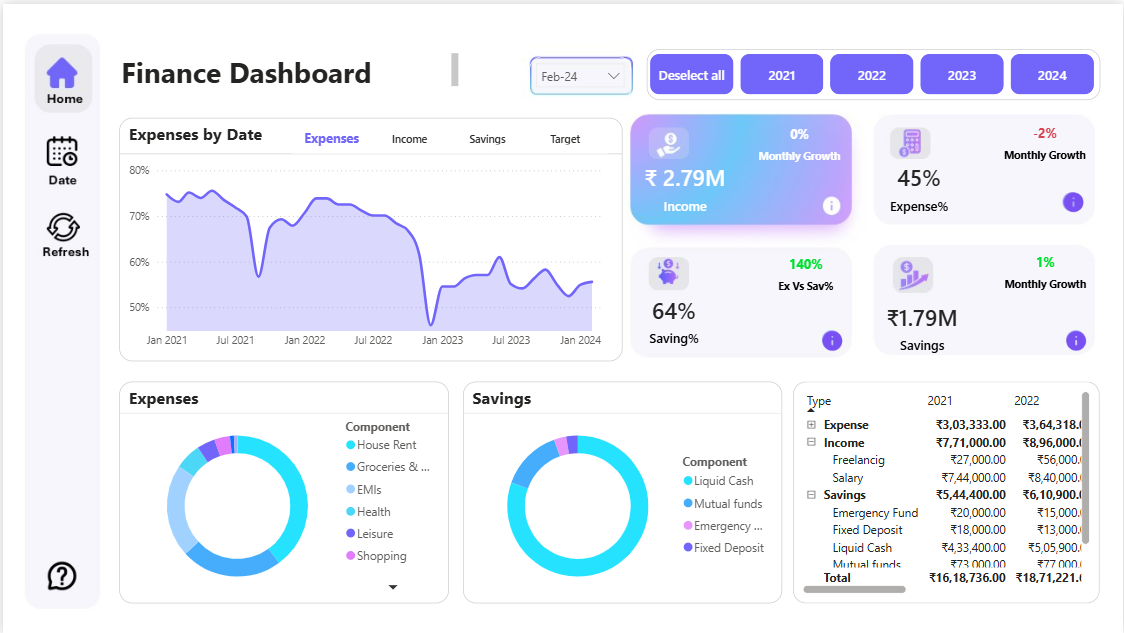

Layout of this report page (visuals, bound fields, positions):
{"tool":"powerbi","page":{"name":"Finance Dashboard","canvas":[1280,720],"ordinal":0},"visuals":[{"type":"card","fields":{"Values":["Dataset.Savings"]},"box":[1016.7,481.7,160,81.7],"z":0},{"type":"card","fields":{"Values":["Dataset.Saving%"]},"box":[713.3,318.3,108.3,85],"z":1000},{"type":"card","fields":{"Values":["Dataset.Expense%"]},"box":[996.7,170,100,80],"z":2000},{"type":"card","fields":{"Values":["Dataset.Income"]},"box":[716.7,170,125,80],"z":3000},{"type":"advancedSlicerVisual","fields":{"Values":["Dataset.Year"]},"box":[735,51.7,518.3,58.3],"z":4000},{"type":"donutChart","title":"Savings","fields":{"Category":["Dataset.Component"],"Y":["Dataset.Savings"]},"box":[525,431.7,365,253.3],"z":5000},{"type":"donutChart","title":"Expenses","fields":{"Category":["Dataset.Component"],"Y":["Dataset.Expense"]},"box":[133.3,431.7,376.7,253.3],"z":6000},{"type":"pivotTable","fields":{"Rows":["Dataset.Type","Dataset.Component"],"Columns":["Dataset.Year"],"Values":["Sum(Dataset.Value)"]},"box":[903.3,431.7,350,253.3],"z":7000},{"type":"lineChart","fields":{"Category":["Dataset.Date"],"Y":["Dataset.Line_Chart_Measures"]},"box":[133.3,130,575,278.3],"z":8000},{"type":"advancedSlicerVisual","fields":{"Values":["Line_Selection_Table.Type"]},"box":[330,135,361.7,35],"z":9000},{"type":"textbox","box":[130,51.7,395,50],"z":10000},{"type":"card","fields":{"Values":["Dataset.Savings_Monthly_Gr"]},"box":[1128.2,269.1,125.5,72.7],"z":11000},{"type":"slicer","fields":{"Values":["Selected_Date.Month-Yr"]},"box":[601.7,60,116.7,50],"z":12000},{"type":"card","fields":{"Values":["Dataset.Expenses_Monthly_Gr"]},"box":[1117.3,126.4,147.3,63.6],"z":13000},{"type":"card","fields":{"Values":["Dataset.Income_Monthly_Gr"]},"box":[853.3,116.7,115,83.3],"z":14000},{"type":"card","fields":{"Values":["Dataset.Ex_Vs_Sav"]},"box":[860,281.7,115,51.7],"z":15000},{"type":"card","fields":{"Values":["Dataset.Savings"]},"box":[1003.6,333.6,92.7,70],"z":16000},{"type":"actionButton","box":[44.4,146.7,45.6,65.6],"z":17000},{"type":"actionButton","box":[41.1,233.3,60,63.3],"z":19000},{"type":"image","box":[930.2,366.8,36,36],"z":20000},{"type":"image","box":[1208.9,366.8,36.2,36.2],"z":21000},{"type":"image","box":[1205.2,208.7,36.2,36.2],"z":22000},{"type":"card","fields":{"Values":["Min(Dataset.Info Icon)"]},"box":[1204.7,209.2,36.1,36.1],"z":23000},{"type":"card","fields":{"Values":["Min(Dataset.Info Icon)"]},"box":[1209,366.5,36.1,36.1],"z":24000},{"type":"card","fields":{"Values":["Min(Dataset.Info Icon)"]},"box":[929.1,365,36.1,36.1],"z":25000},{"type":"card","fields":{"Values":["Min(Dataset.Info Icon)"]},"box":[927.7,212.1,36.1,36.1],"z":26000}]}

Visuals, with their boxes on the page's 1280x720 design canvas (x1, y1, x2, y2). These are canvas units, not pixel positions in the 1124x633 screenshot, which may show the page scaled, cropped or inside an application window:
card - Dataset.Savings: <box>1017,482,1177,563</box>
card - Dataset.Saving%: <box>713,318,822,403</box>
card - Dataset.Expense%: <box>997,170,1097,250</box>
card - Dataset.Income: <box>717,170,842,250</box>
advancedSlicerVisual - Dataset.Year: <box>735,52,1253,110</box>
"Savings" donutChart: <box>525,432,890,685</box>
"Expenses" donutChart: <box>133,432,510,685</box>
pivotTable - Dataset.Type x Dataset.Component: <box>903,432,1253,685</box>
lineChart - Dataset.Date x Dataset.Line_Chart_Measures: <box>133,130,708,408</box>
advancedSlicerVisual - Line_Selection_Table.Type: <box>330,135,692,170</box>
textbox: <box>130,52,525,102</box>
card - Dataset.Savings_Monthly_Gr: <box>1128,269,1254,342</box>
slicer - Selected_Date.Month-Yr: <box>602,60,718,110</box>
card - Dataset.Expenses_Monthly_Gr: <box>1117,126,1265,190</box>
card - Dataset.Income_Monthly_Gr: <box>853,117,968,200</box>
card - Dataset.Ex_Vs_Sav: <box>860,282,975,333</box>
card - Dataset.Savings: <box>1004,334,1096,404</box>
actionButton: <box>44,147,90,212</box>
actionButton: <box>41,233,101,297</box>
image: <box>930,367,966,403</box>
image: <box>1209,367,1245,403</box>
image: <box>1205,209,1241,245</box>
card - Min(Dataset.Info Icon): <box>1205,209,1241,245</box>
card - Min(Dataset.Info Icon): <box>1209,366,1245,403</box>
card - Min(Dataset.Info Icon): <box>929,365,965,401</box>
card - Min(Dataset.Info Icon): <box>928,212,964,248</box>
